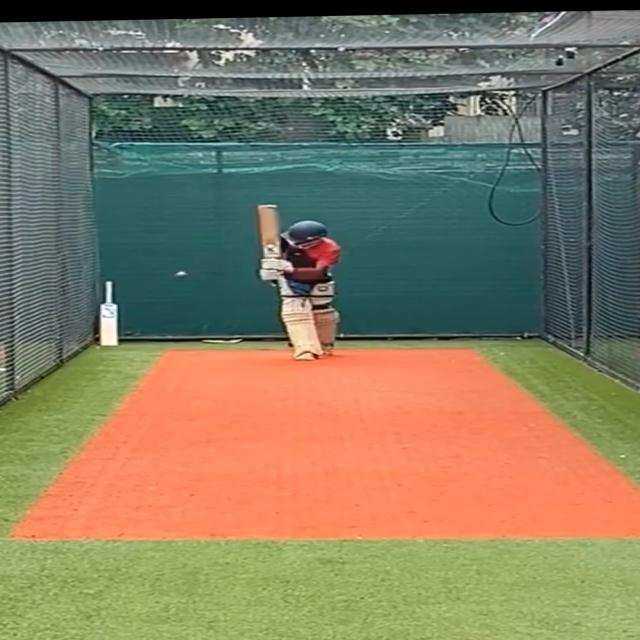ball: (170, 268, 193, 282)
